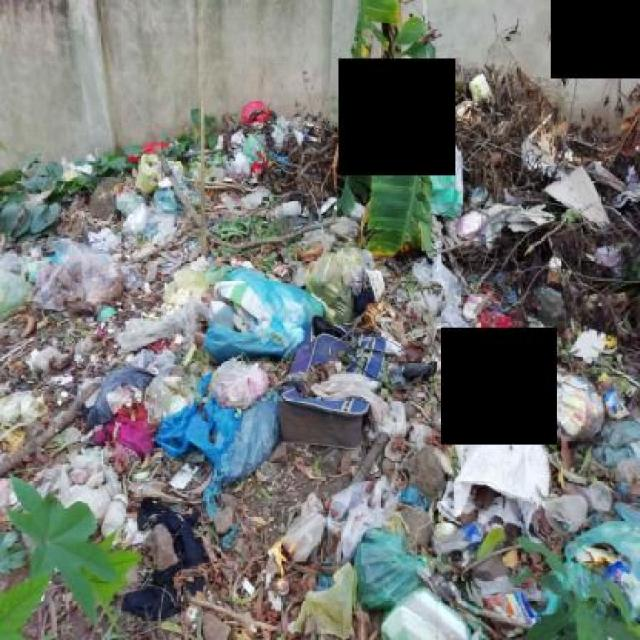plastic bag: (0, 66, 638, 635), (206, 263, 332, 366), (342, 522, 431, 616), (302, 248, 376, 322), (417, 136, 468, 216), (211, 356, 272, 410)
